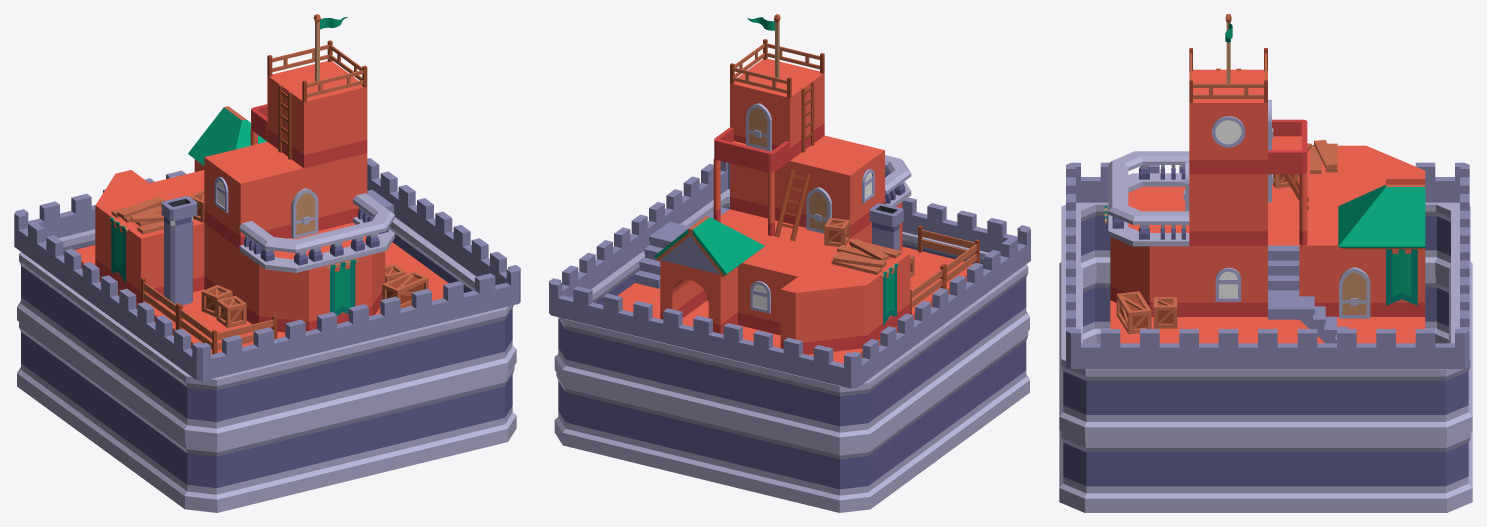
3 views of the same model, side by side, from view 1: azimuth 30°, elevation 25°; view 2: azimuth 150°, elevation 25°; view 3: azimuth 270°, elevation 25° (orthographic). The views are drawn at different scales.
Parts seen in each view (by area): view 1: mergedBlocks; view 2: mergedBlocks; view 3: mergedBlocks.
Boxes of the visible parts, <box> form: mergedBlocks: <box>14,14,520,512</box>; mergedBlocks: <box>549,14,1030,512</box>; mergedBlocks: <box>1059,14,1472,512</box>.
Bounding box in the file's own units: 52.5 × 60 × 52.5.
